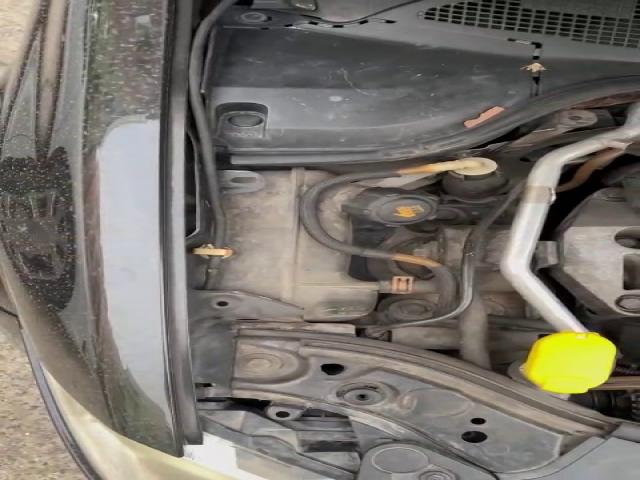antifreeze_tank: (216, 169, 378, 321), (318, 184, 439, 241)
